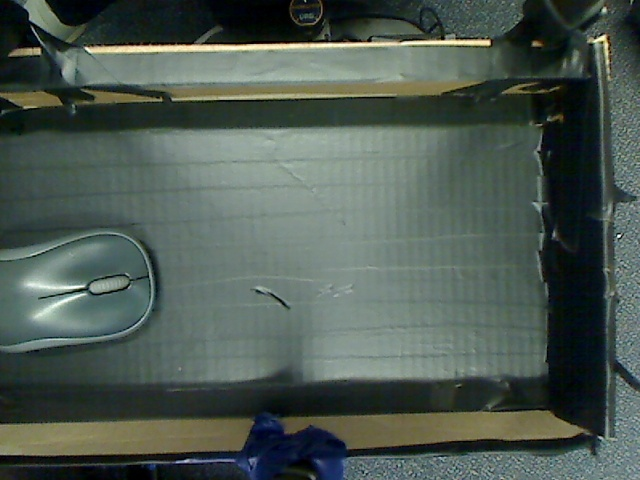mouse: (1, 211, 159, 361)
